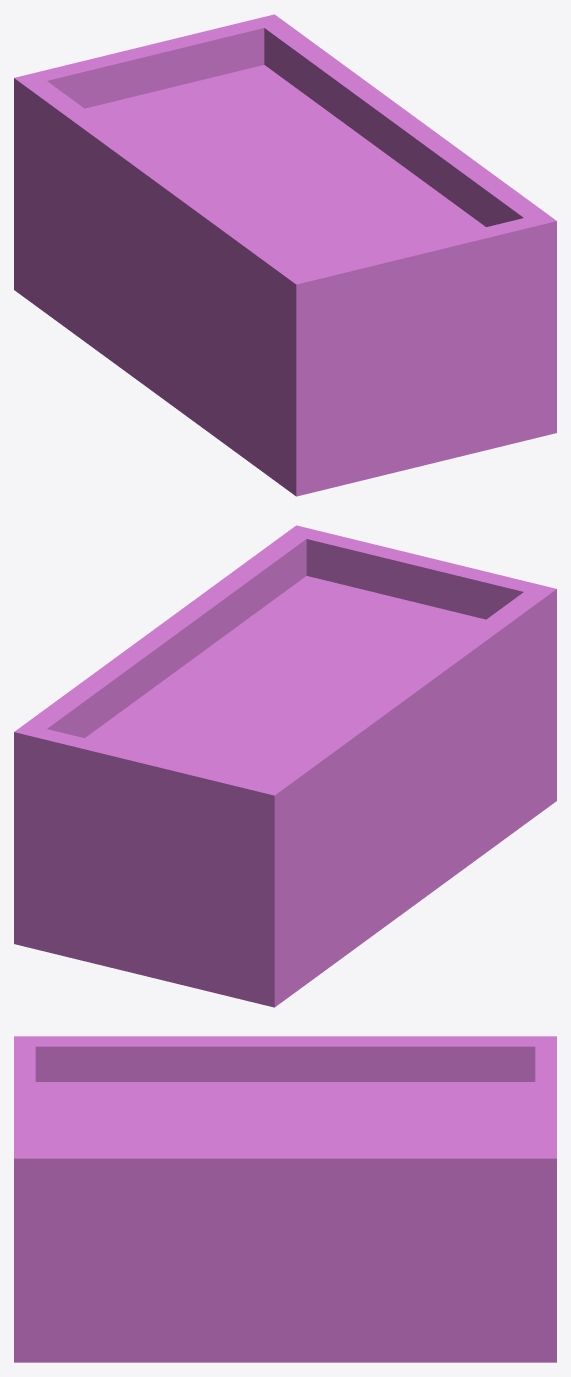
The model's file is Blok plants.fbx.
The picture shows the model from 3 angles, top to bottom: view 1: azimuth 30°, elevation 25°; view 2: azimuth 150°, elevation 25°; view 3: azimuth 270°, elevation 25°; orthographic projection. The views are drawn at different scales.
Parts seen in each view (by area): view 1: Plantpot; view 2: Plantpot; view 3: Plantpot.
Boxes of the visible parts, box(x1,y1,x2,y2) form: Plantpot: box(14, 14, 556, 496); Plantpot: box(14, 525, 556, 1007); Plantpot: box(14, 1036, 556, 1362).
Bounding box in the file's own units: 139 × 108 × 262.
